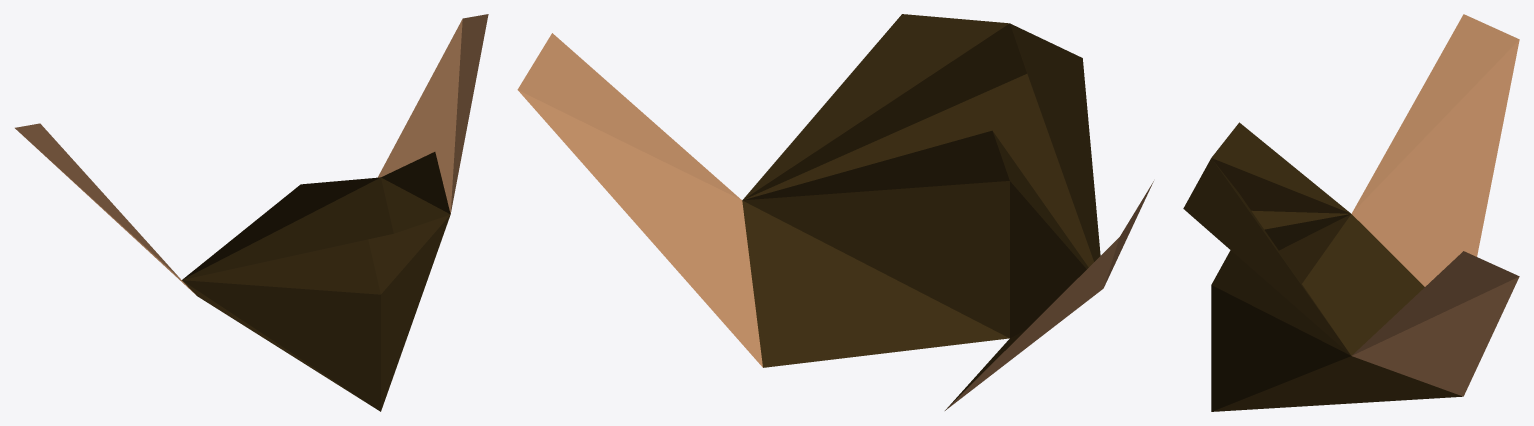
File: model_249_idk.obj
The picture shows the model from 3 angles, left to right: view 1: azimuth 30°, elevation 25°; view 2: azimuth 150°, elevation 25°; view 3: azimuth 270°, elevation 25°; orthographic projection. The views are drawn at different scales.
Visible parts, largest first — view 1: 249; view 2: 249; view 3: 249.
Boxes of the visible parts, x1=… form: 249: x1=15, y1=14, x2=488, y2=411; 249: x1=517, y1=14, x2=1153, y2=410; 249: x1=1183, y1=14, x2=1519, y2=411.
Bounding box in the file's own units: 20 × 11 × 12.
